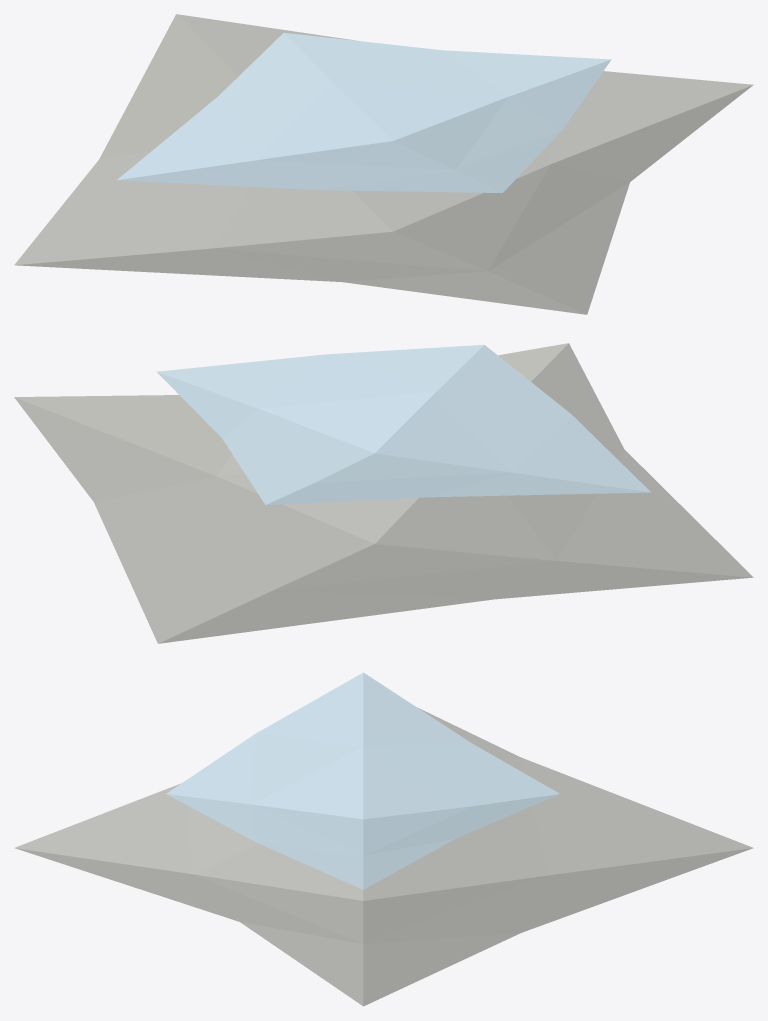
Rendered from puddle_stone_v34.glb.
3 renders of one model, top to bottom at view 1: azimuth 30°, elevation 25°; view 2: azimuth 150°, elevation 25°; view 3: azimuth 270°, elevation 25°, orthographic. The views are drawn at different scales.
Parts seen in each view (by area): view 1: lod0; view 2: lod0; view 3: lod0.
Boxes of the visible parts, x1=… form: lod0: x1=14, y1=14, x2=753, y2=314; lod0: x1=14, y1=343, x2=753, y2=643; lod0: x1=14, y1=672, x2=753, y2=1006.
Size of what is drawn, in the model's own units: 0.9026 by 0.1686 by 0.8682.
